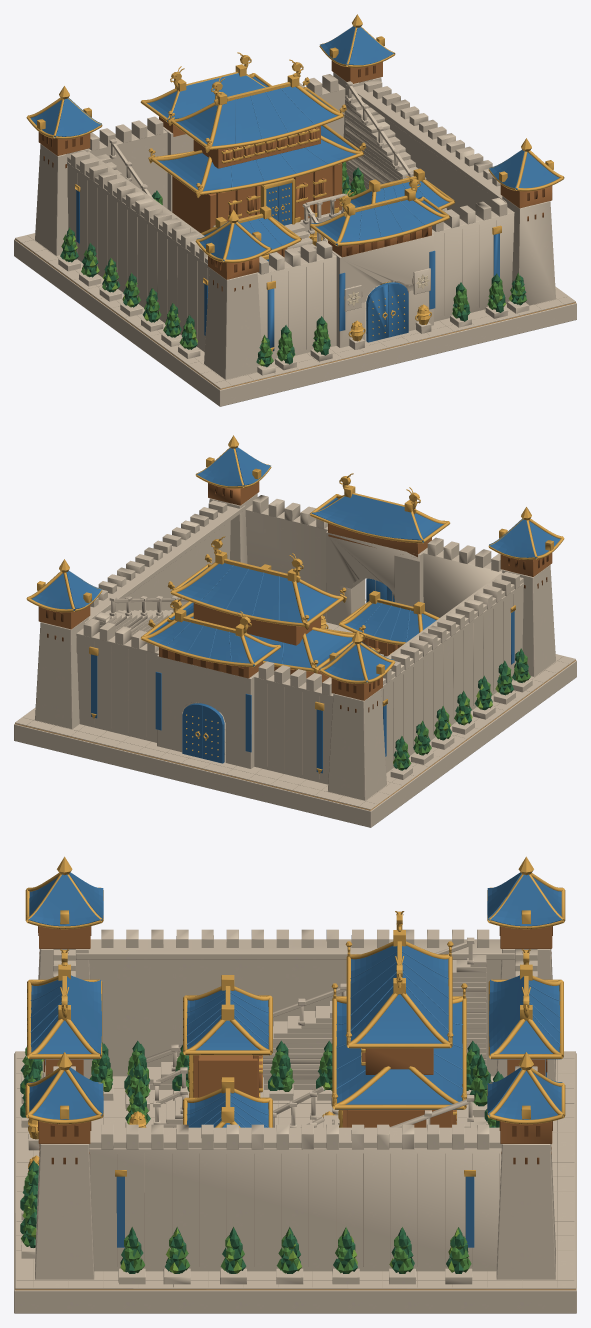
Rendered from city-4-lod0-1402e98bf38b.glb.
3 renders of one model, top to bottom at view 1: azimuth 30°, elevation 25°; view 2: azimuth 150°, elevation 25°; view 3: azimuth 270°, elevation 25°, orthographic. The views are drawn at different scales.
Parts seen in each view (by area): view 1: SM_CT4_V4_Batch_106.003, SM_CT4_V4_Batch_9.003, SM_CT4_V4_Batch_105.003, SM_CT4_V4_Batch_7.003, SM_CT4_V4_Batch_103.003, SM_CT4_V4_Batch_102.003, SM_CT4_V4_Batch_5.003, SM_CT4_V4_Batch_8.003, SM_CT4_V4_Batch_1.003, SM_CT4_V4_Batch_98.003, SM_CT4_V4_Batch_127; view 2: SM_CT4_V4_Batch_106.003, SM_CT4_V4_Batch_9.003, SM_CT4_V4_Batch_105.003, SM_CT4_V4_Batch_7.003, SM_CT4_V4_Batch_5.003, SM_CT4_V4_Batch_102.003, SM_CT4_V4_Batch_103.003, SM_CT4_V4_Batch_8.003, SM_CT4_V4_Batch_1.003, SM_CT4_V4_Batch_98.003; view 3: SM_CT4_V4_Batch_106.003, SM_CT4_V4_Batch_9.003, SM_CT4_V4_Batch_105.003, SM_CT4_V4_Batch_7.003, SM_CT4_V4_Batch_102.003, SM_CT4_V4_Batch_103.003, SM_CT4_V4_Batch_5.003, SM_CT4_V4_Batch_98.003, SM_CT4_V4_Batch_1.003, SM_CT4_V4_Batch_127, SM_CT4_V4_Batch_8.003.
Boxes of the visible parts, x1,y1,x2,y2 form: SM_CT4_V4_Batch_106.003: (14, 72, 576, 406); SM_CT4_V4_Batch_9.003: (30, 26, 559, 351); SM_CT4_V4_Batch_105.003: (26, 14, 564, 351); SM_CT4_V4_Batch_7.003: (38, 60, 552, 279); SM_CT4_V4_Batch_103.003: (61, 162, 526, 363); SM_CT4_V4_Batch_102.003: (60, 162, 526, 367); SM_CT4_V4_Batch_5.003: (24, 166, 567, 384); SM_CT4_V4_Batch_8.003: (42, 58, 544, 291); SM_CT4_V4_Batch_1.003: (15, 239, 575, 389); SM_CT4_V4_Batch_98.003: (231, 88, 427, 245); SM_CT4_V4_Batch_127: (72, 169, 512, 365); SM_CT4_V4_Batch_106.003: (14, 493, 576, 827); SM_CT4_V4_Batch_9.003: (32, 447, 560, 773); SM_CT4_V4_Batch_105.003: (26, 435, 564, 773); SM_CT4_V4_Batch_7.003: (38, 481, 552, 700); SM_CT4_V4_Batch_5.003: (23, 580, 565, 805); SM_CT4_V4_Batch_102.003: (393, 648, 528, 770); SM_CT4_V4_Batch_103.003: (394, 648, 530, 770); SM_CT4_V4_Batch_8.003: (46, 479, 548, 712); SM_CT4_V4_Batch_1.003: (15, 660, 575, 810); SM_CT4_V4_Batch_98.003: (165, 565, 410, 664); SM_CT4_V4_Batch_106.003: (14, 929, 576, 1313); SM_CT4_V4_Batch_9.003: (28, 872, 562, 1247); SM_CT4_V4_Batch_105.003: (25, 856, 565, 1176); SM_CT4_V4_Batch_7.003: (38, 926, 552, 1143); SM_CT4_V4_Batch_102.003: (20, 1040, 503, 1273); SM_CT4_V4_Batch_103.003: (21, 1047, 499, 1273); SM_CT4_V4_Batch_5.003: (17, 1058, 573, 1287); SM_CT4_V4_Batch_98.003: (30, 951, 560, 1127); SM_CT4_V4_Batch_1.003: (15, 1289, 575, 1290); SM_CT4_V4_Batch_127: (22, 1053, 459, 1273); SM_CT4_V4_Batch_8.003: (38, 914, 552, 1164).
Bounding box in the file's own units: 10 × 5.12 × 10.
12 materials, 4 textured.
